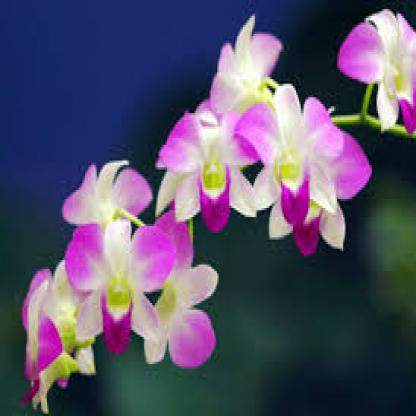ANGGREK: (20, 28, 413, 397)
